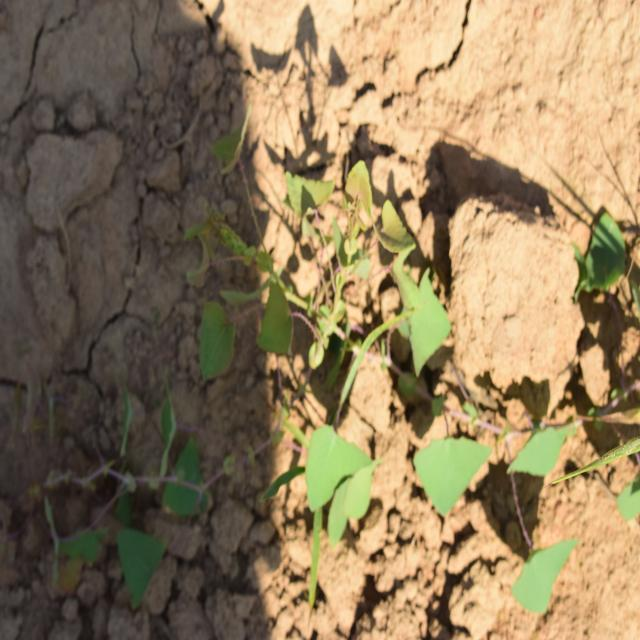Asiatic_Smartweed: (204, 134, 439, 555), (423, 397, 578, 592)
